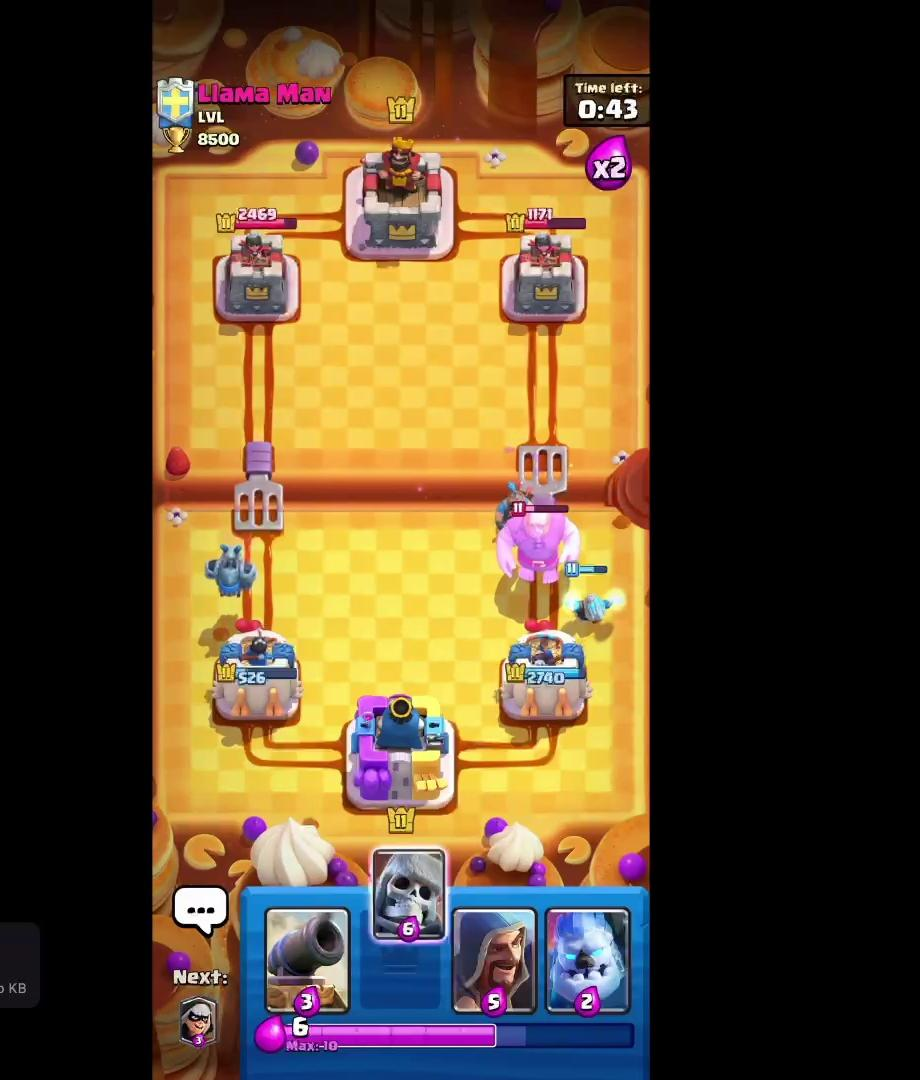Giant: (500, 499, 577, 589)
